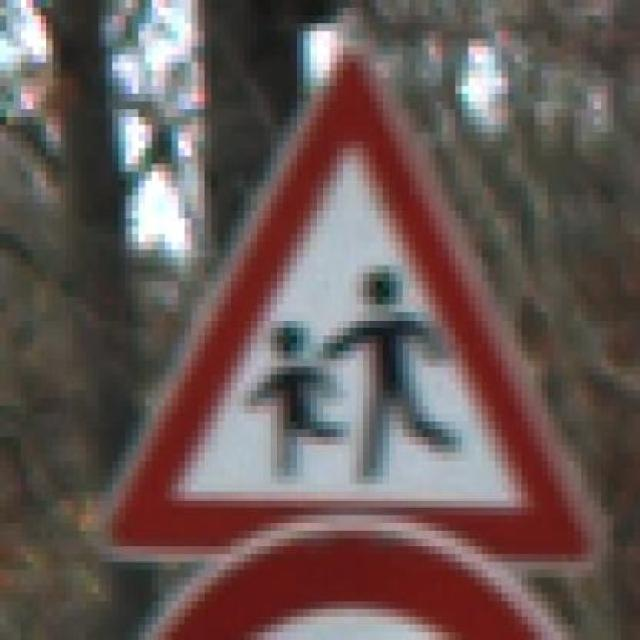Beware of children: (95, 33, 603, 579)
